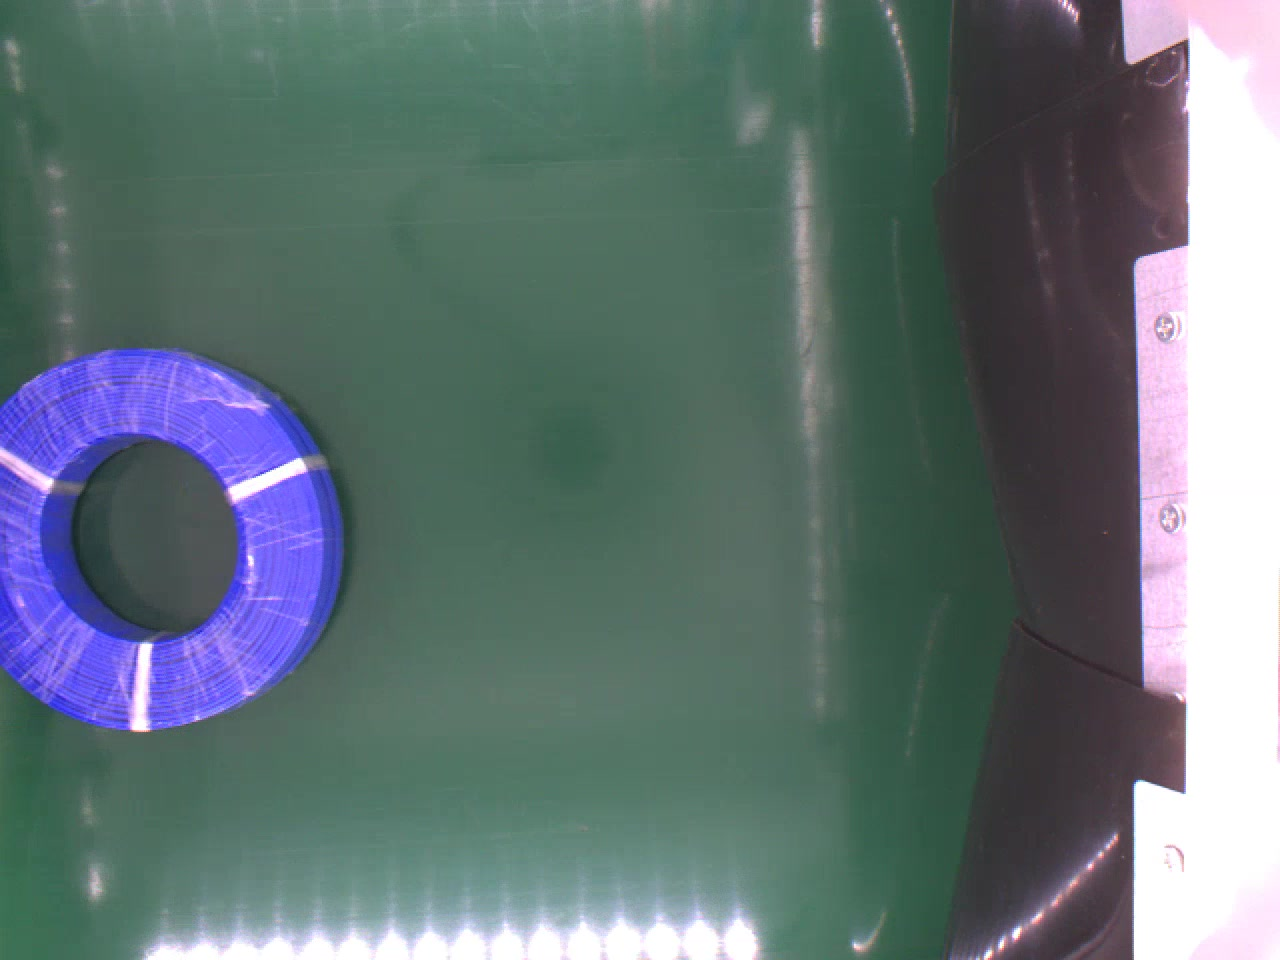blue: (0, 346, 347, 740)
